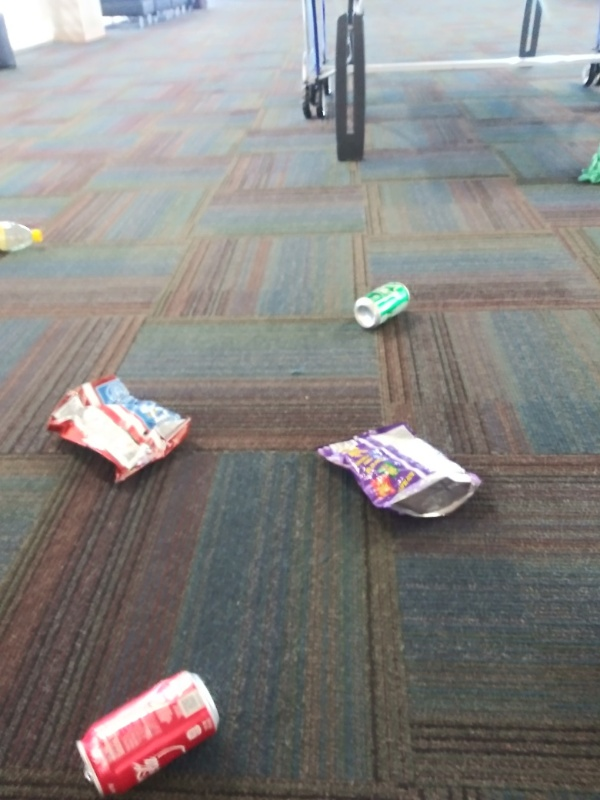bag: (305, 419, 487, 525), (42, 373, 196, 494)
bottle: (1, 216, 48, 255)
can: (70, 668, 223, 798), (348, 279, 416, 332)
